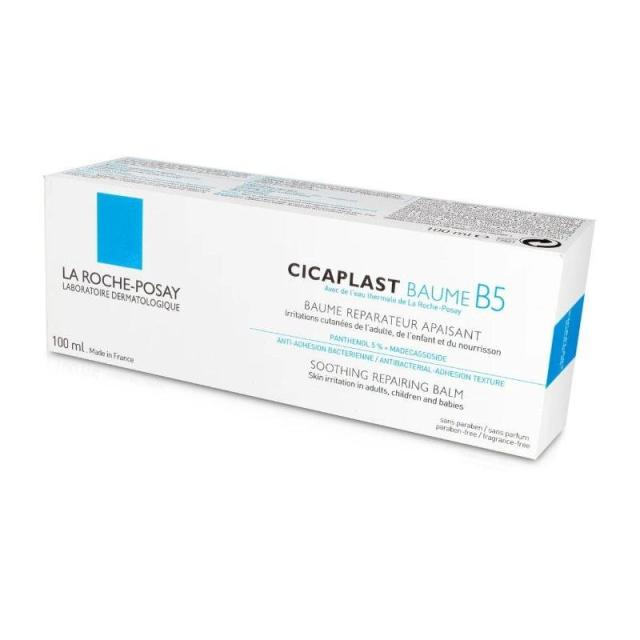medicine: (48, 178, 555, 448)
